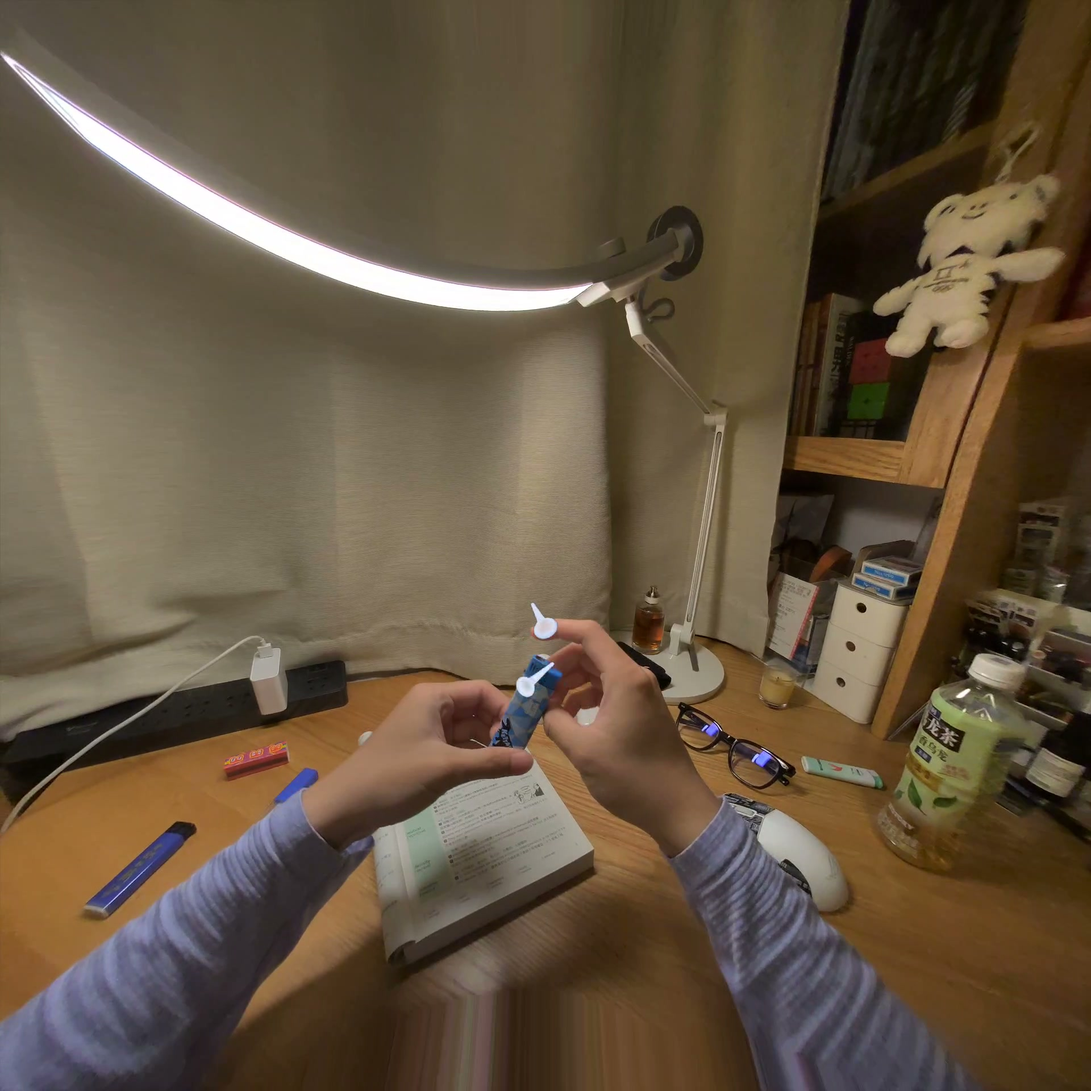lighter: (490, 656, 561, 748)
